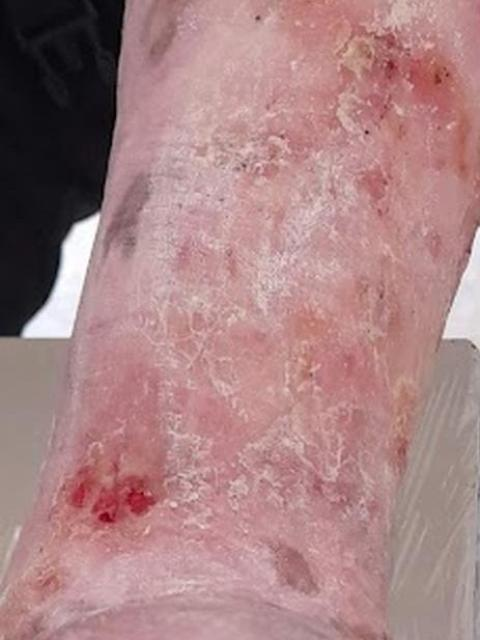wound: (61, 437, 162, 540)
